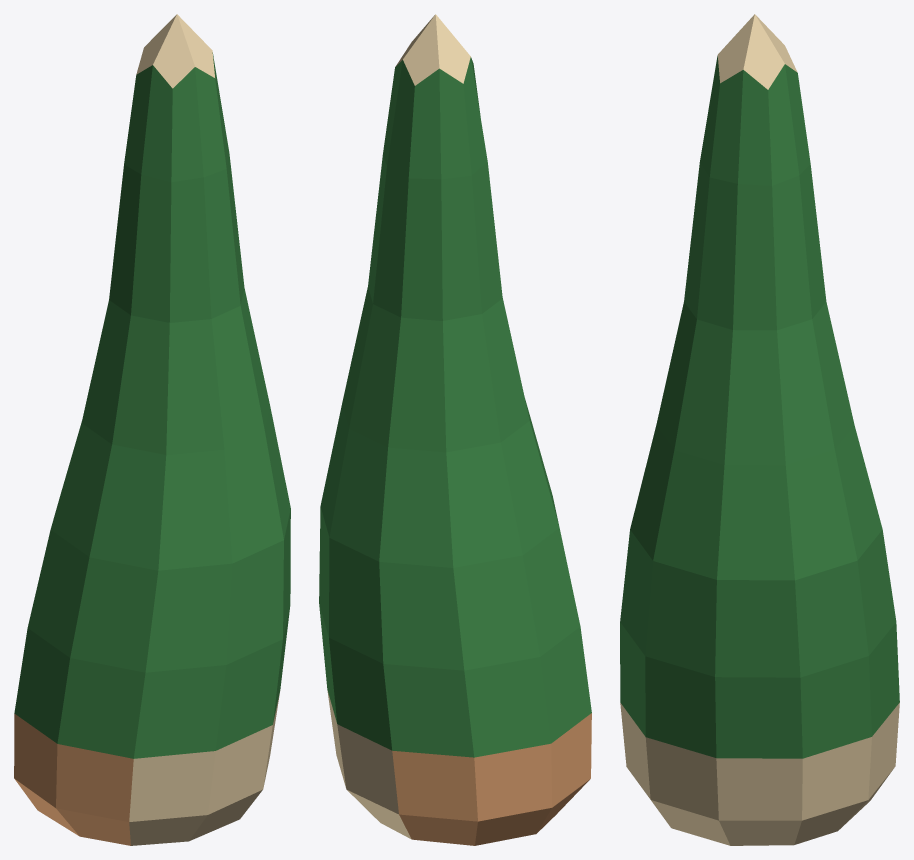
The model's file is seedling.fbx.
The picture shows the model from 3 angles, left to right: view 1: azimuth 30°, elevation 25°; view 2: azimuth 150°, elevation 25°; view 3: azimuth 270°, elevation 25°; orthographic projection. The views are drawn at different scales.
Visible parts, largest first — view 1: Seedling; view 2: Seedling; view 3: Seedling.
Part boxes in pixels (x1,y1,x2,y2): Seedling: [14, 14, 290, 845]; Seedling: [319, 14, 591, 845]; Seedling: [620, 14, 899, 845].
Size of the model in its own units: 16.59 by 53.79 by 16.55.
